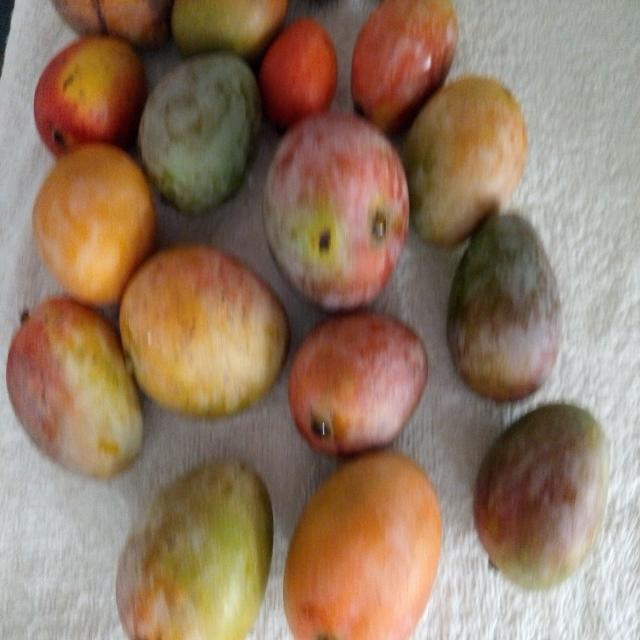mango: (281, 445, 446, 640), (120, 245, 289, 416), (264, 112, 408, 310), (116, 461, 273, 639), (474, 404, 609, 589), (6, 297, 142, 478), (447, 213, 561, 401), (404, 76, 527, 247), (289, 311, 427, 455), (139, 53, 261, 214), (349, 1, 460, 131), (31, 28, 144, 152)
